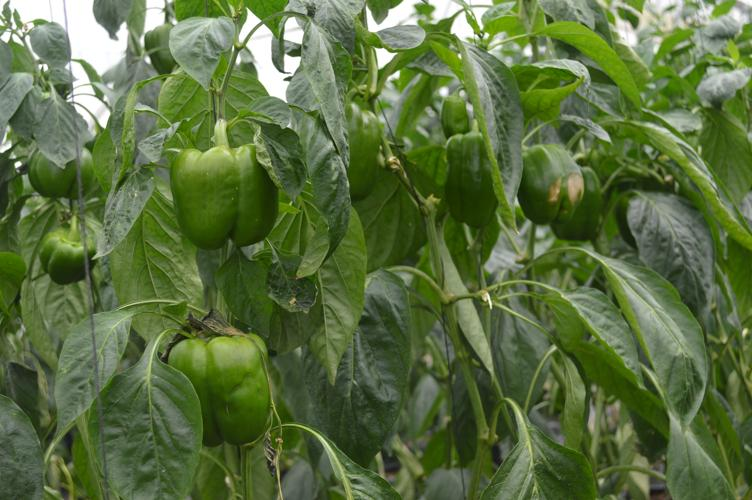BellPepper: (160, 326, 280, 462), (167, 136, 287, 251), (513, 138, 596, 236), (323, 98, 388, 200), (439, 124, 496, 229), (24, 135, 102, 210), (31, 219, 106, 291)
